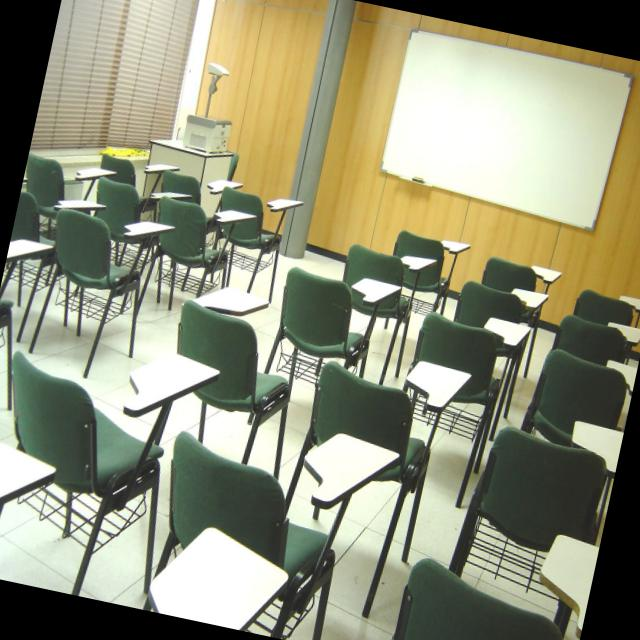2001: (28, 0, 198, 159)
chair desk: (142, 430, 398, 640), (0, 350, 218, 594), (29, 205, 175, 373), (138, 195, 257, 306)
chair leg: (284, 360, 469, 615), (405, 310, 531, 505), (175, 281, 288, 476), (263, 265, 401, 388), (341, 243, 438, 379), (453, 279, 548, 323)
chairs occluded: (389, 290, 640, 640)
column occluded: (277, 0, 355, 256)
desk calendar: (142, 137, 235, 230)
floor -X: (0, 218, 638, 640)
screen occluded: (379, 27, 631, 230)
wall clock: (220, 0, 640, 359), (11, 0, 264, 235)
